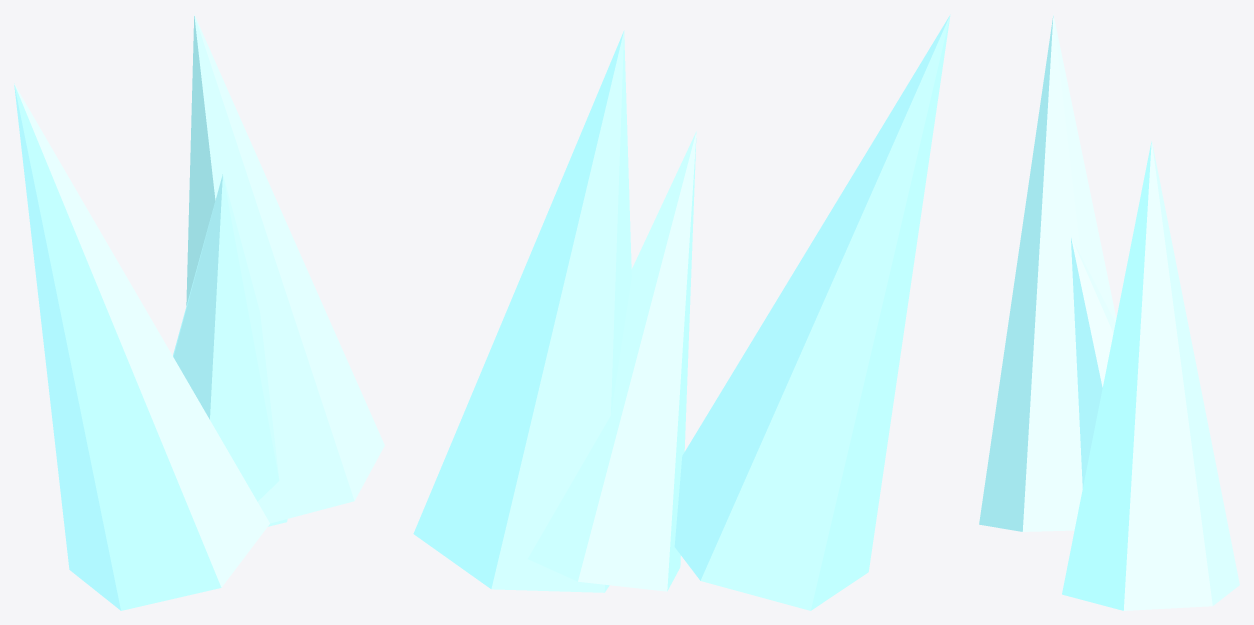
The model's file is Env_Crystal_Cluster_B.fbx.
3 renders of one model, left to right at view 1: azimuth 30°, elevation 25°; view 2: azimuth 150°, elevation 25°; view 3: azimuth 270°, elevation 25°, orthographic. The views are drawn at different scales.
Parts seen in each view (by area): view 1: Env_Crystal_Cluster_B; view 2: Env_Crystal_Cluster_B; view 3: Env_Crystal_Cluster_B.
Part boxes in pixels (<box>): Env_Crystal_Cluster_B: <box>14,15,384,610</box>; Env_Crystal_Cluster_B: <box>413,14,950,610</box>; Env_Crystal_Cluster_B: <box>979,14,1239,610</box>.
Bounding box in the file's own units: 1.14 × 1.42 × 0.7274.
